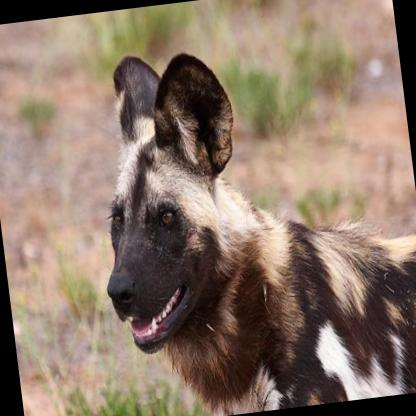African_hunting_dog: (76, 19, 416, 416)
